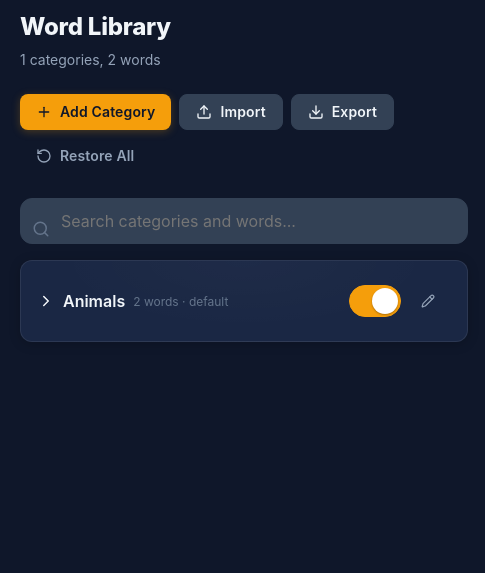
WordLibraryScreen › rejects duplicate words
The image size is (485, 573).
Click the button with aria-label "Expand Animals" at {"x": 181, "y": 301}, box [37,291,325,311]
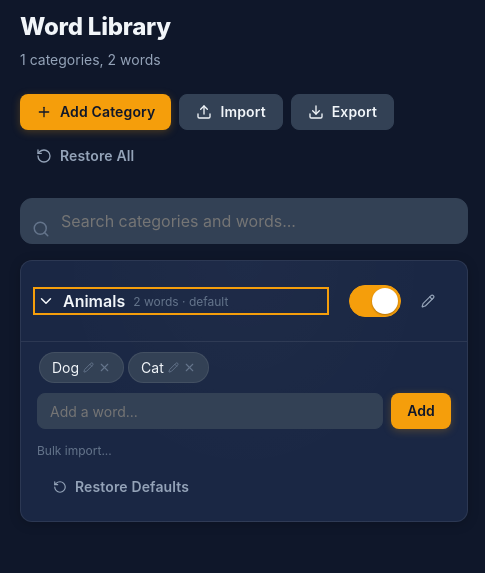
Type "Dog" into the field with placeholder "Add a word..." at {"x": 210, "y": 411}, box [37,393,383,429]
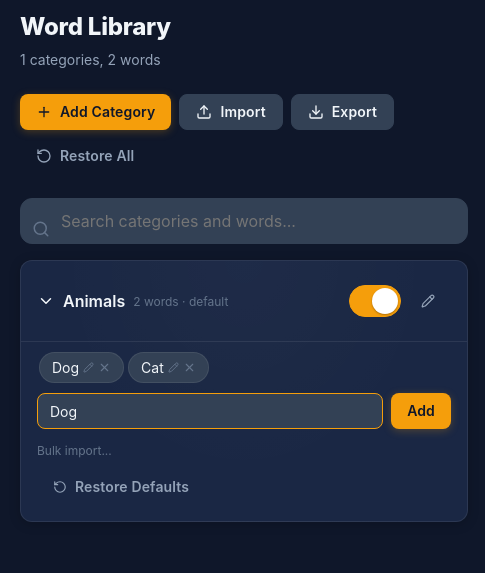
Click the button "Add" at {"x": 421, "y": 411}, box [391,393,451,429]
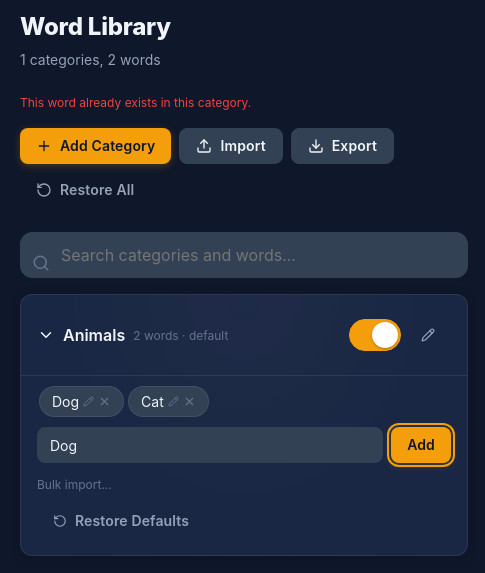
Now the text "This word already exists in this category." is shown, box [20,95,251,110]
